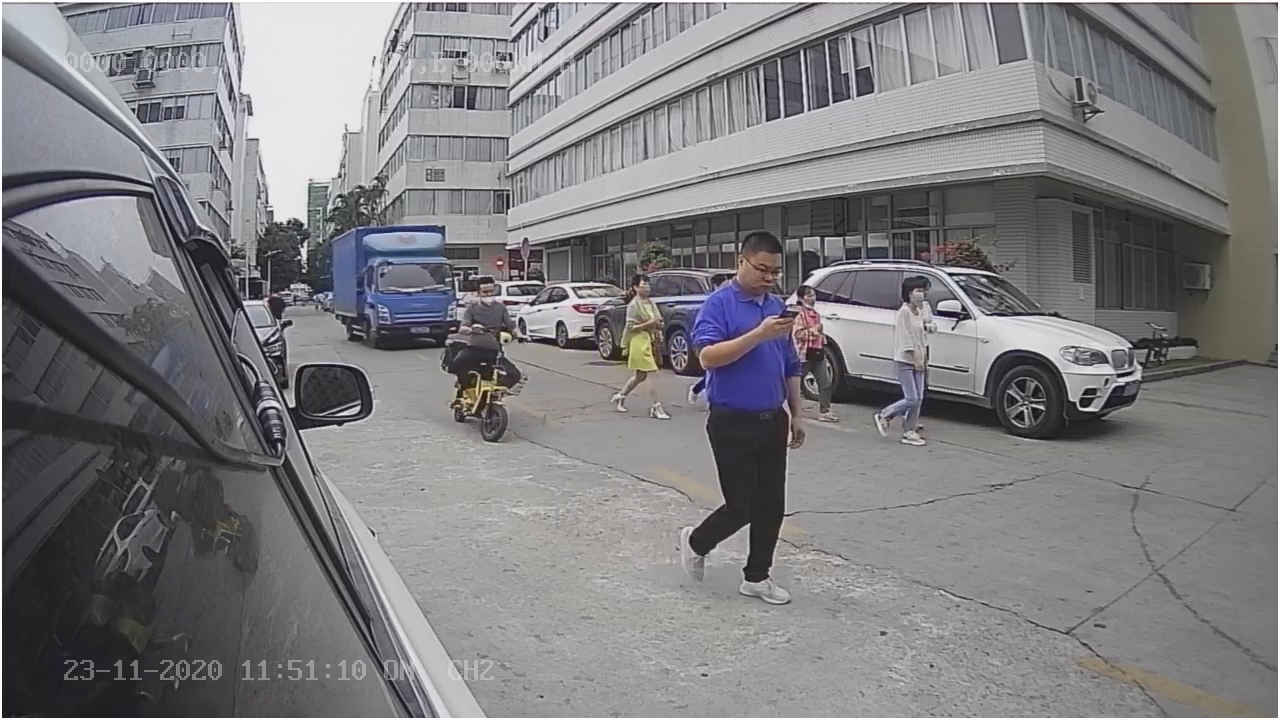person: (669, 228, 795, 612)
